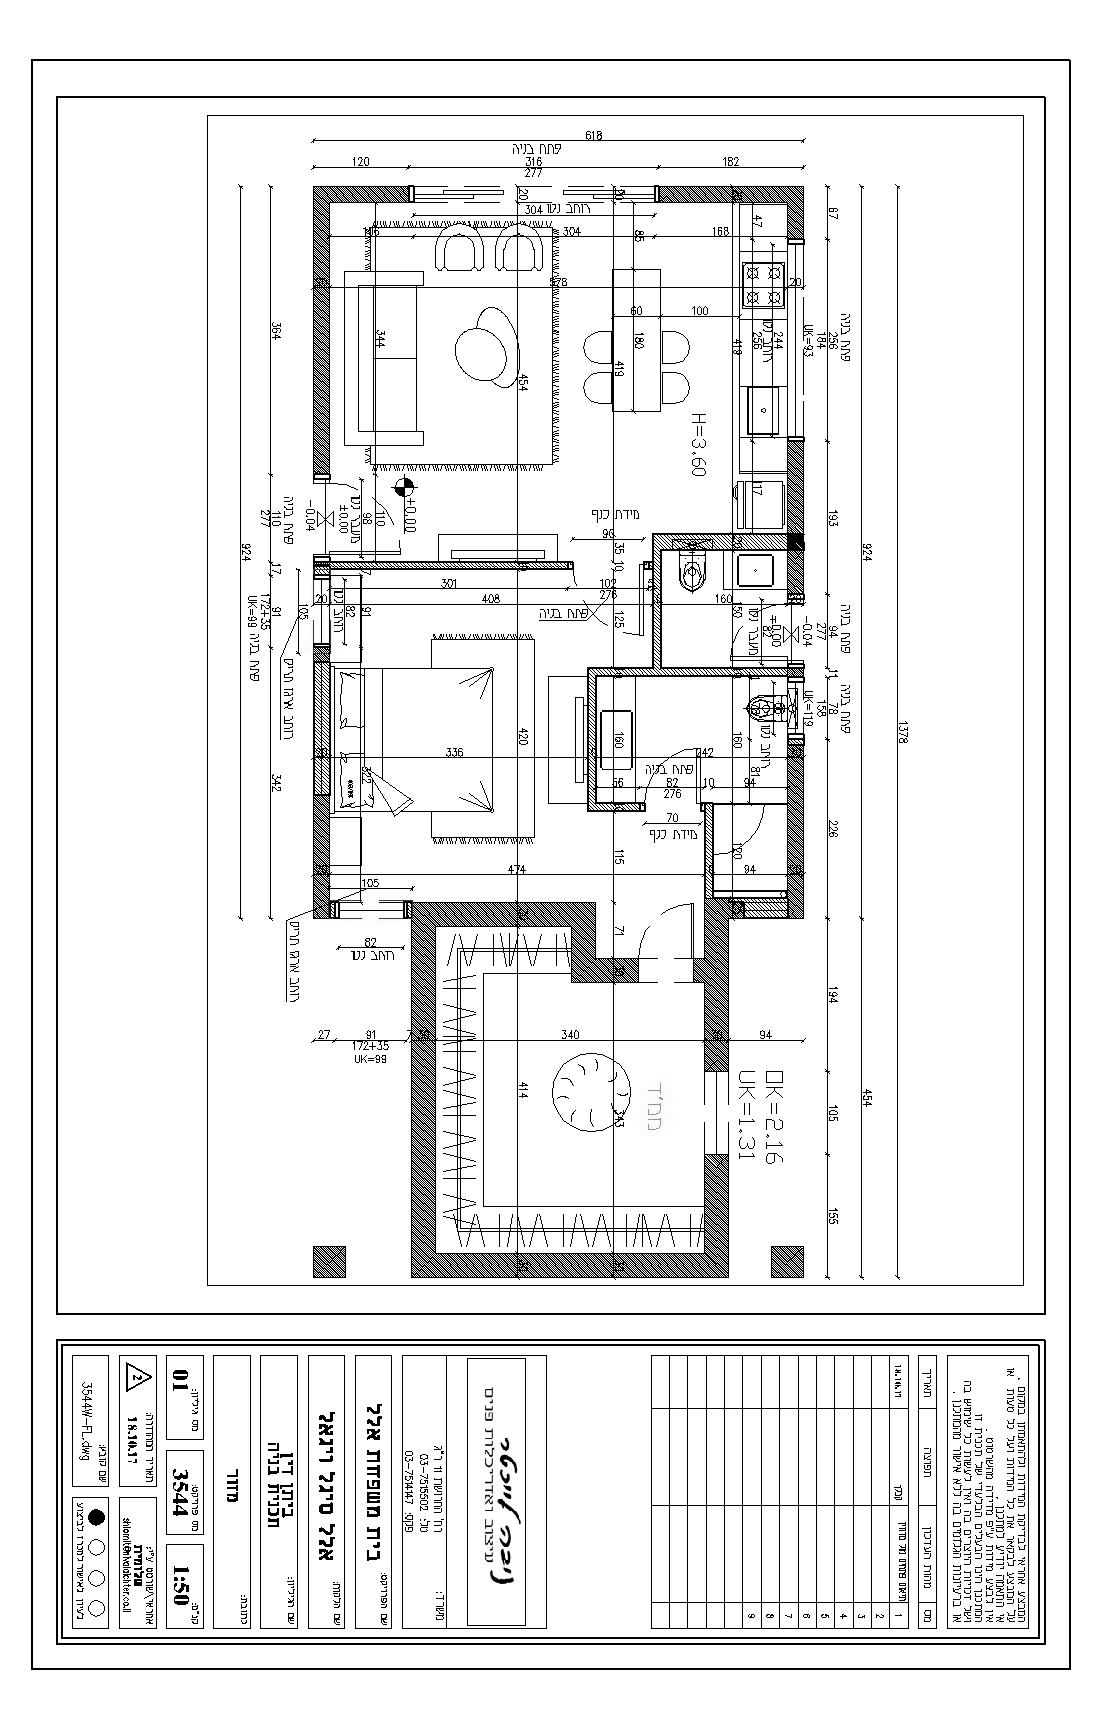door: (311, 478, 402, 559), (569, 556, 648, 638), (632, 894, 698, 986), (724, 591, 805, 663), (639, 742, 704, 818), (706, 796, 768, 858)
wall: (416, 907, 433, 1275), (311, 185, 331, 468)
window: (787, 236, 804, 442), (703, 1064, 728, 1158), (784, 672, 804, 747), (311, 573, 331, 648), (329, 900, 412, 916)
